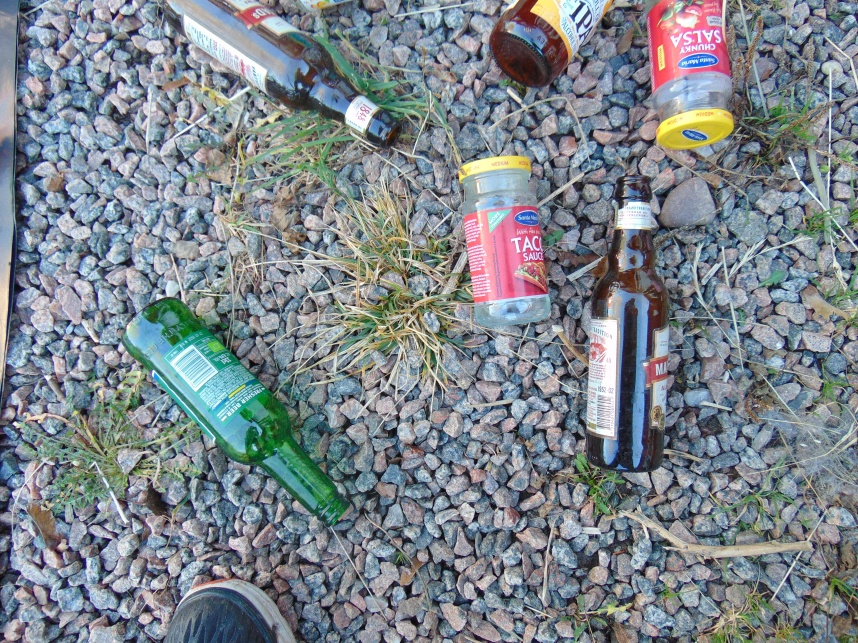glass_bottle: (123, 297, 350, 523), (155, 1, 402, 148), (584, 174, 669, 470), (458, 155, 552, 330), (647, 1, 733, 151), (490, 1, 615, 87)
